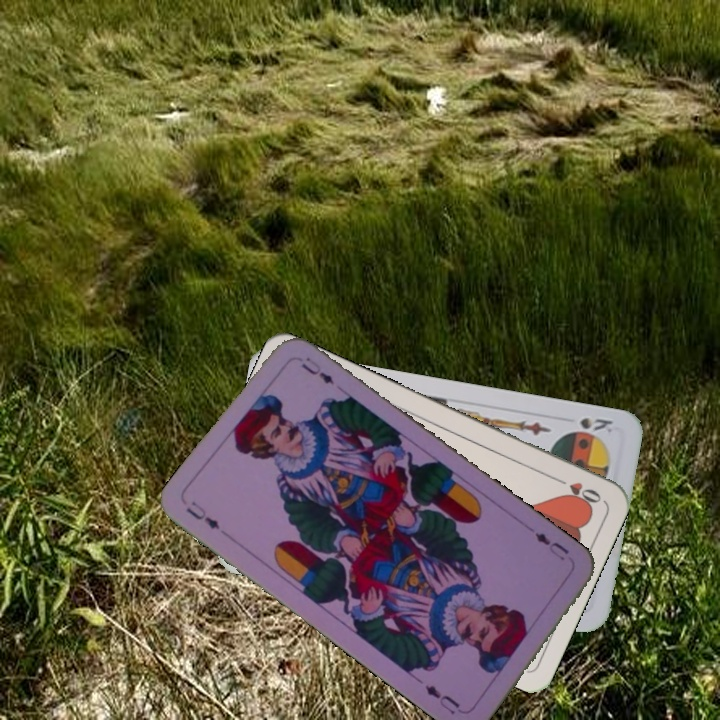EU: (531, 528, 572, 564), (182, 497, 223, 533)
HO: (549, 473, 604, 508)
SK: (562, 413, 615, 440)
